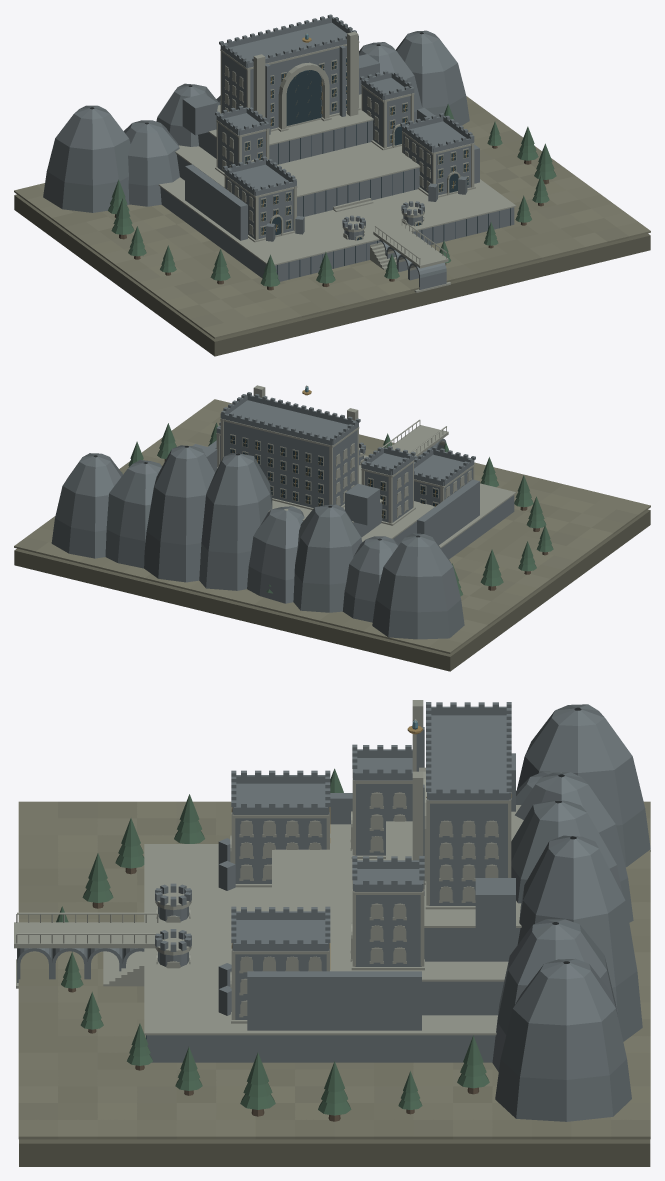
File: mountain.glb
3 views of the same model, one above another, from view 1: azimuth 30°, elevation 25°; view 2: azimuth 150°, elevation 25°; view 3: azimuth 270°, elevation 25° (orthographic). The views are drawn at different scales.
Parts seen in each view (by area): view 1: site, citadel-terraces, bastions, great-gate, landscape, bastions-roof, approach, great-gate-roof, bastions-ornament, approach-roof; view 2: site, great-gate, bastions, citadel-terraces, landscape, great-gate-roof, bastions-roof, approach; view 3: site, citadel-terraces, bastions, great-gate, landscape, bastions-roof, approach, great-gate-roof, bastions-ornament, approach-roof.
Boxes of the visible parts, x1,y1,x2,y2 form: site: (14, 30, 650, 356); citadel-terraces: (158, 94, 516, 281); bastions: (182, 54, 479, 242); great-gate: (220, 22, 360, 134); landscape: (108, 104, 556, 290); bastions-roof: (215, 70, 474, 195); approach: (342, 205, 450, 292); great-gate-roof: (219, 14, 358, 67); bastions-ornament: (266, 176, 467, 241); approach-roof: (342, 201, 424, 229); site: (14, 399, 650, 671); great-gate: (220, 385, 359, 509); bastions: (192, 433, 479, 544); citadel-terraces: (217, 455, 516, 559); landscape: (121, 422, 553, 596); great-gate-roof: (220, 392, 360, 445); bastions-roof: (216, 422, 475, 485); approach: (359, 419, 448, 465); site: (18, 704, 650, 1166); citadel-terraces: (103, 805, 523, 1062); bastions: (230, 753, 515, 1030); great-gate: (412, 700, 512, 909); landscape: (56, 768, 489, 1121); bastions-roof: (231, 744, 424, 951); approach: (14, 890, 191, 988); great-gate-roof: (426, 702, 511, 800); bastions-ornament: (218, 838, 235, 1015); approach-roof: (155, 883, 191, 951).
Bounding box in the file's own units: 59.01 × 23.06 × 47.43.
